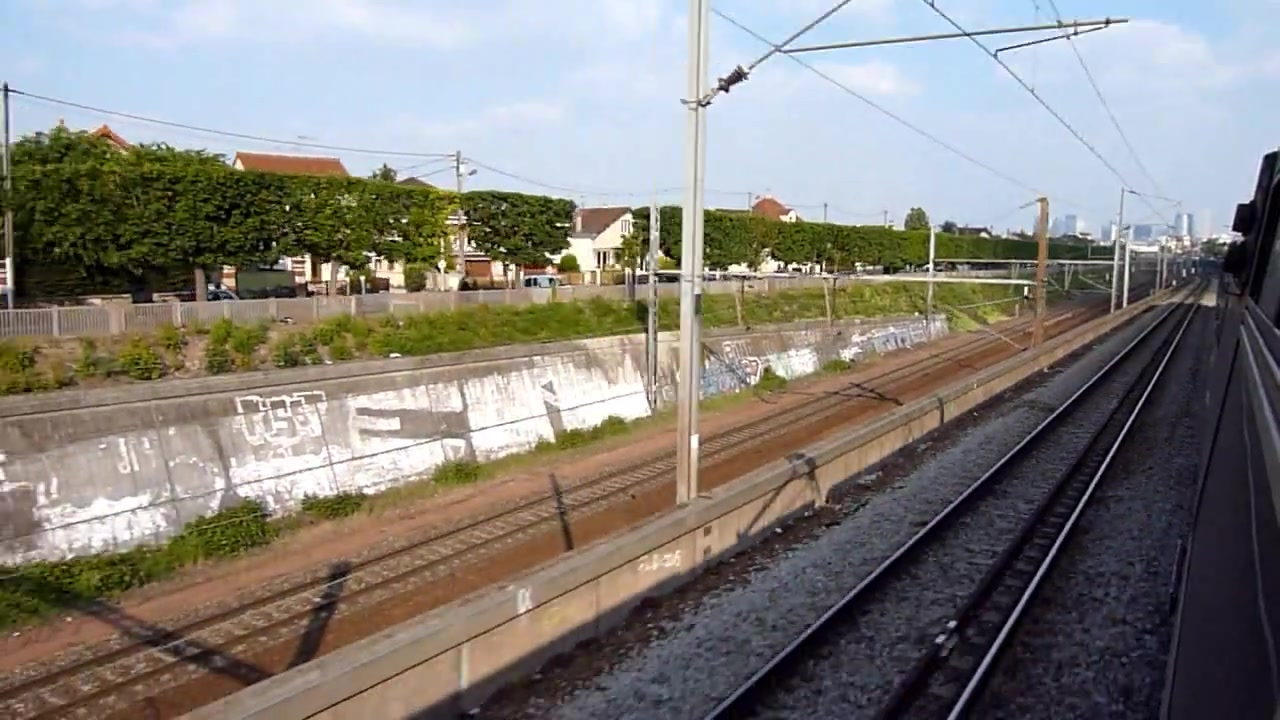train: (1178, 143, 1280, 720)
